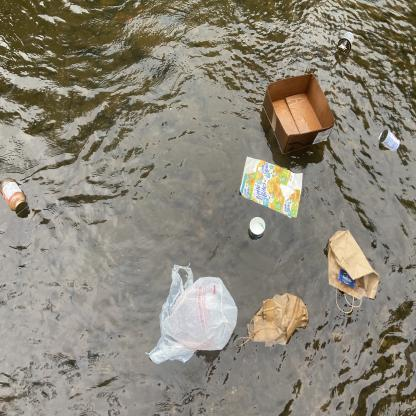trash: (143, 262, 241, 369), (261, 71, 340, 158), (320, 225, 382, 315), (230, 289, 312, 357), (234, 154, 306, 223), (0, 174, 33, 224), (376, 127, 402, 156), (247, 212, 270, 240)
